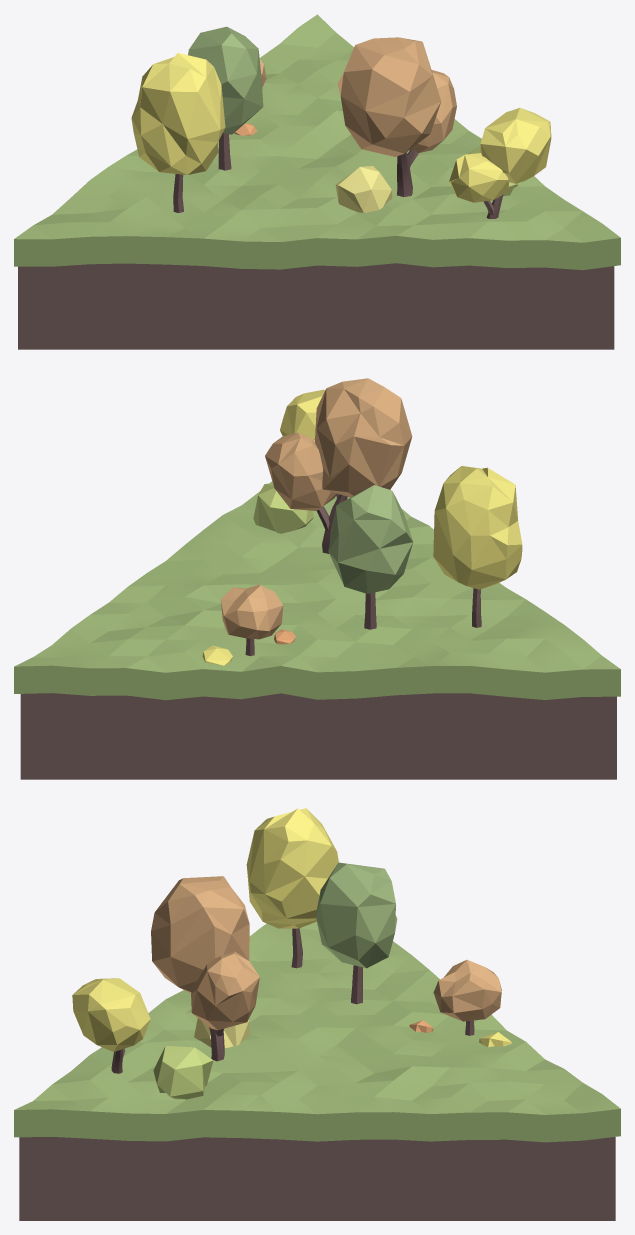
Rendered from TILE_02_01_Autumn.fbx.
3 views of the same model, one above another, from view 1: azimuth 30°, elevation 25°; view 2: azimuth 150°, elevation 25°; view 3: azimuth 270°, elevation 25° (orthographic).
Visible parts, largest first — view 1: TILESURFACE14 (2), TILE14, pCube6, pCube5, pCube3, pCube12, pCube14, bush2, pCube7, pCylinder14; view 2: TILESURFACE14 (2), TILE14, pCube6, pCube5, pCube3, pCube7, pPlatonic1, bush1, pCube12; view 3: TILESURFACE14 (2), TILE14, pCube5, pCube6, pCube3, pCube12, pCube7, pPlatonic1, bush1, bush2.
Boxes of the visible parts, left/top/right/bottom form: TILESURFACE14 (2): left=14, top=14, right=620, bottom=270; TILE14: left=18, top=263, right=614, bottom=349; pCube6: left=337, top=37, right=441, bottom=156; pCube5: left=131, top=53, right=225, bottom=174; pCube3: left=188, top=26, right=263, bottom=134; pCube12: left=480, top=108, right=551, bottom=183; pCube14: left=449, top=153, right=508, bottom=202; bush2: left=335, top=166, right=392, bottom=212; pCube7: left=411, top=69, right=456, bottom=152; pCylinder14: left=397, top=152, right=412, bottom=197; TILESURFACE14 (2): left=14, top=481, right=620, bottom=700; TILE14: left=20, top=693, right=616, bottom=779; pCube6: left=315, top=378, right=412, bottom=497; pCube5: left=433, top=466, right=522, bottom=589; pCube3: left=328, top=485, right=413, bottom=593; pCube7: left=265, top=432, right=337, bottom=510; pPlatonic1: left=221, top=584, right=283, bottom=639; bush1: left=253, top=483, right=313, bottom=533; pCube12: left=280, top=389, right=325, bottom=439; TILESURFACE14 (2): left=14, top=921, right=620, bottom=1142; TILE14: left=19, top=1137, right=615, bottom=1220; pCube5: left=246, top=808, right=338, bottom=928; pCube6: left=151, top=876, right=249, bottom=993; pCube3: left=315, top=862, right=397, bottom=968; pCube12: left=72, top=978, right=150, bottom=1051; pCube7: left=191, top=951, right=259, bottom=1030; pPlatonic1: left=433, top=959, right=501, bottom=1021; bush1: left=153, top=1046, right=213, bottom=1099; bush2: left=194, top=1018, right=249, bottom=1048.
Bounding box in the file's own units: 153 × 87.66 × 176.
